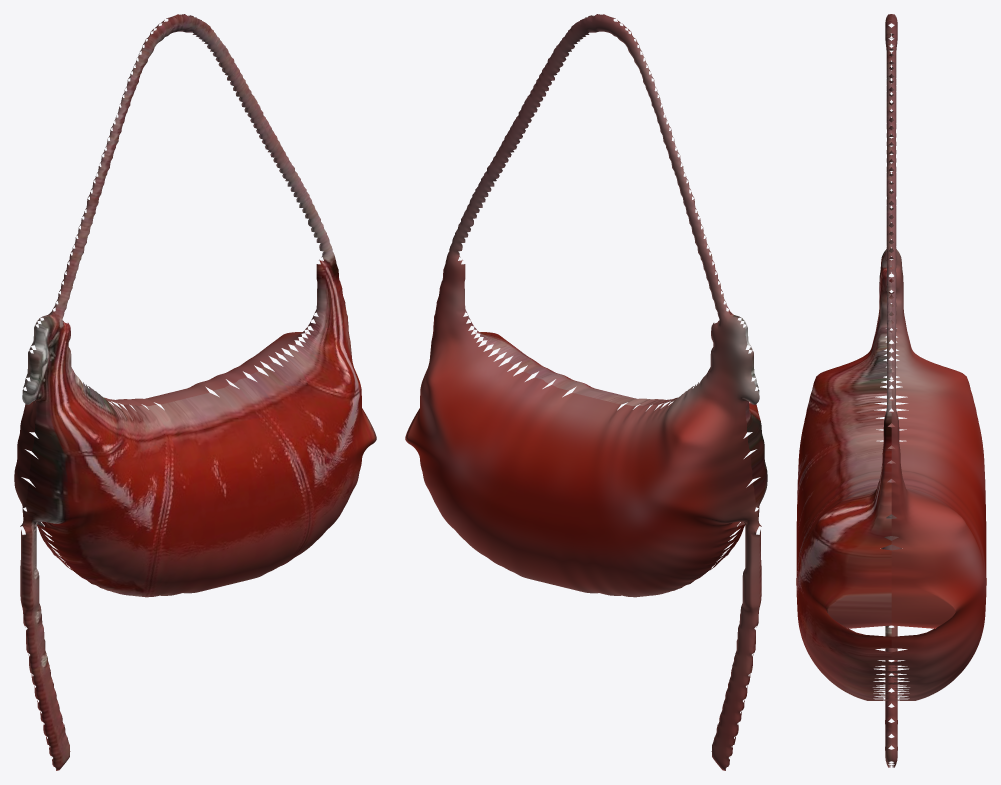
Rendered from musa-red.glb.
The picture shows the model from 3 angles, left to right: view 1: azimuth 30°, elevation 25°; view 2: azimuth 150°, elevation 25°; view 3: azimuth 270°, elevation 25°; orthographic projection. The views are drawn at different scales.
Parts seen in each view (by area): view 1: musa-red; view 2: musa-red; view 3: musa-red.
Part boxes in pixels (left/top/right/bottom): musa-red: left=14, top=14, right=376, bottom=770; musa-red: left=405, top=14, right=767, bottom=770; musa-red: left=796, top=14, right=986, bottom=767.
Bounding box in the file's own units: 0.31 × 0.6547 × 0.1376.
2 materials, 2 textured.
